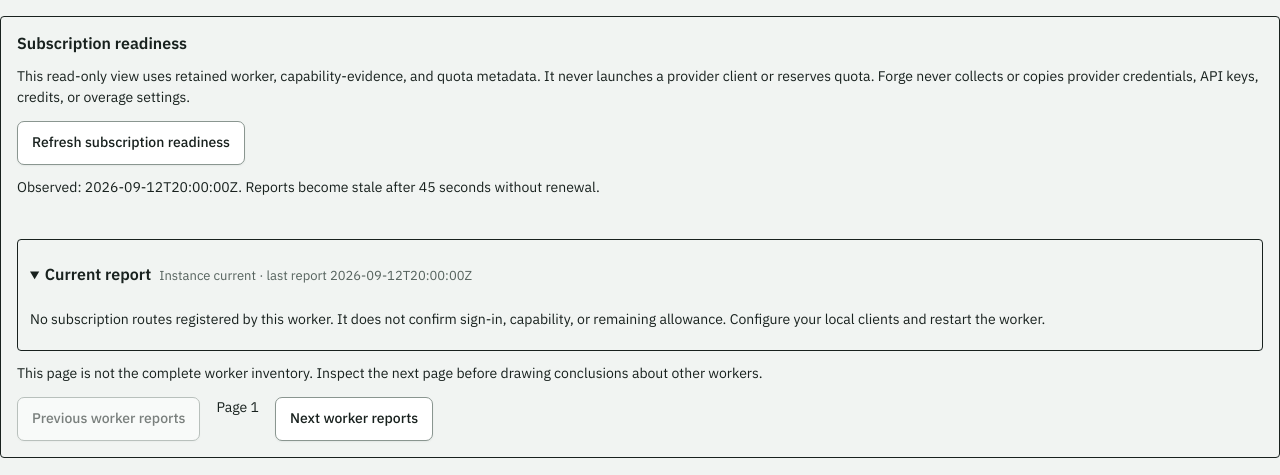
Test: pagination is explicit and a failed refresh does not show old current state
The width and height of the screenshot is (1280, 475).
Expected: the text "This page is not the complete worker inventory" is shown, [17, 364, 762, 382]
Click the button "Next worker reports" at (354, 419), box [275, 397, 433, 441]
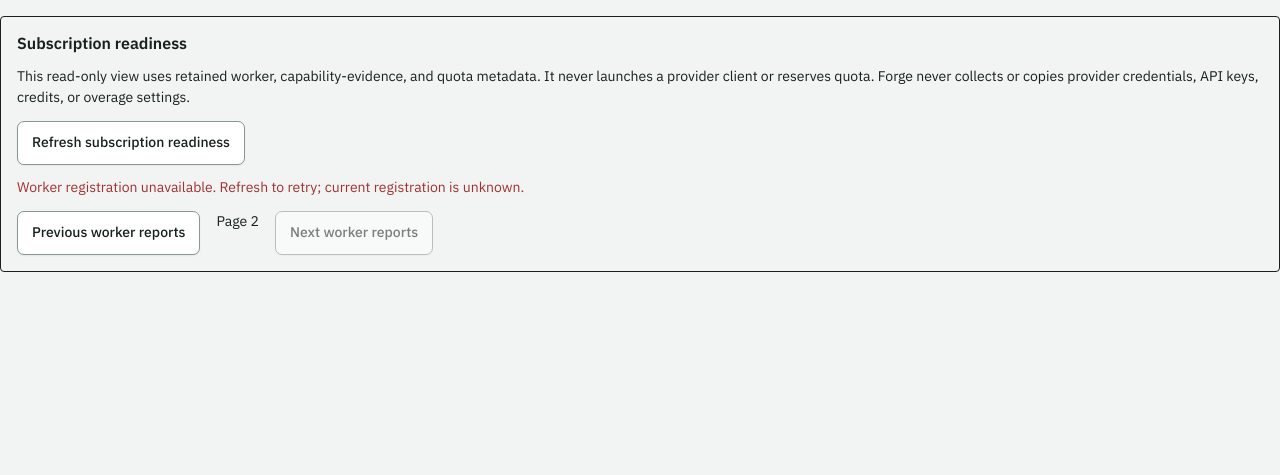
Expected: the message shows "Worker registration unavailable", [17, 178, 524, 196]
Expected: the heading "Current report" is gone
